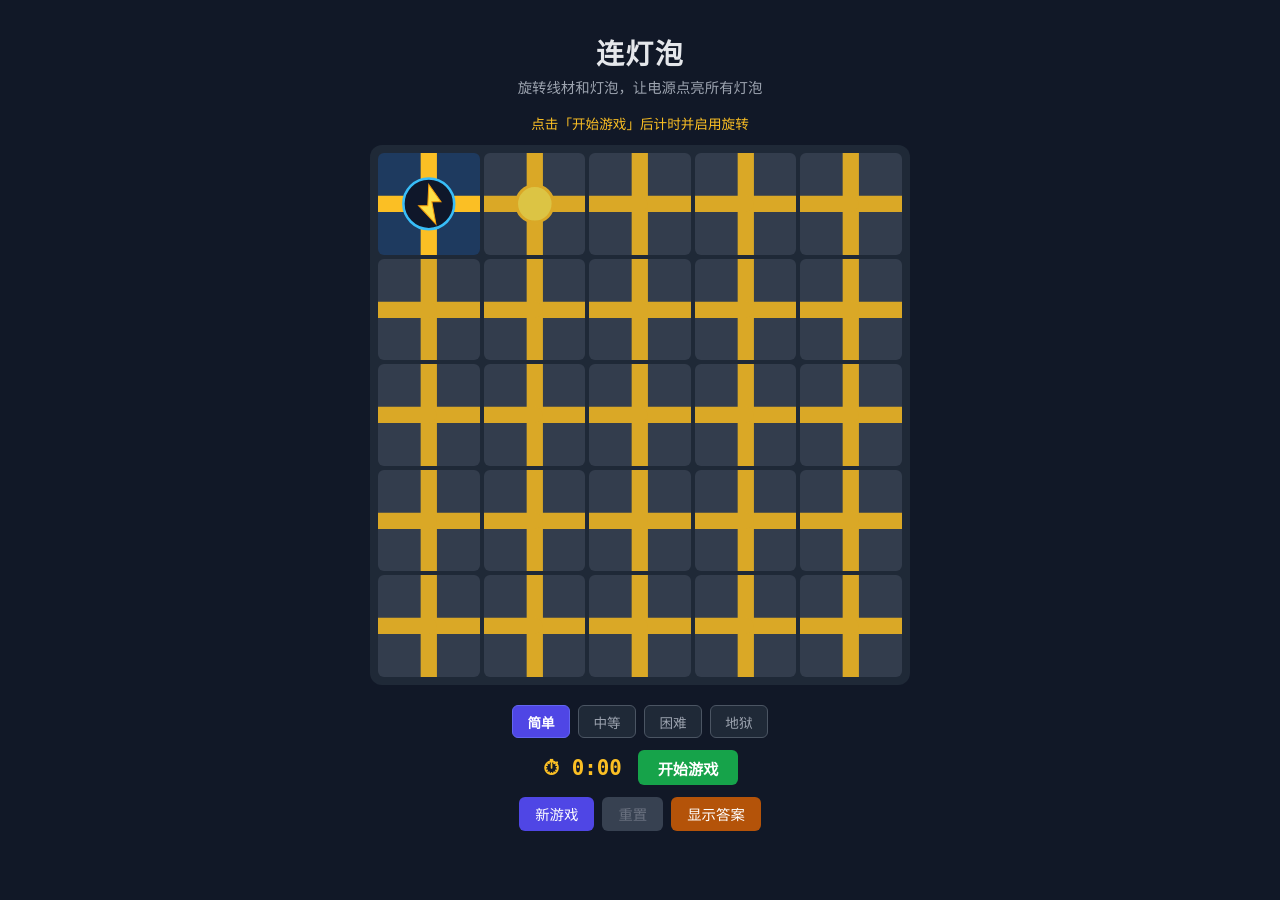
App - 显示答案 › 点击显示答案弹出确认框
Click the button "显示答案": (716,814) [671,797,761,831]
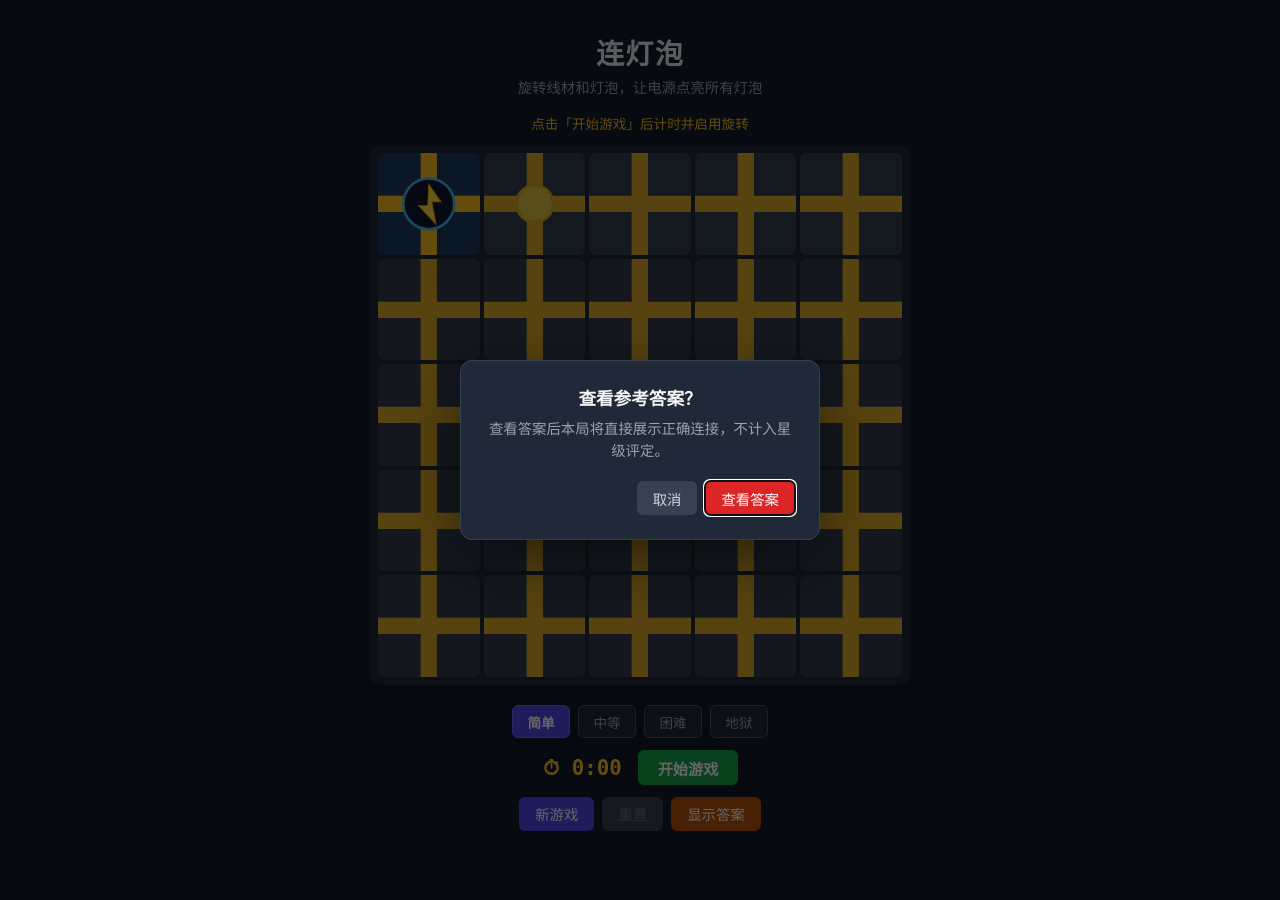
Now the heading "查看参考答案？" is shown, box [578,388,702,409]
Now the button "查看答案" is shown, box [705,481,795,515]
